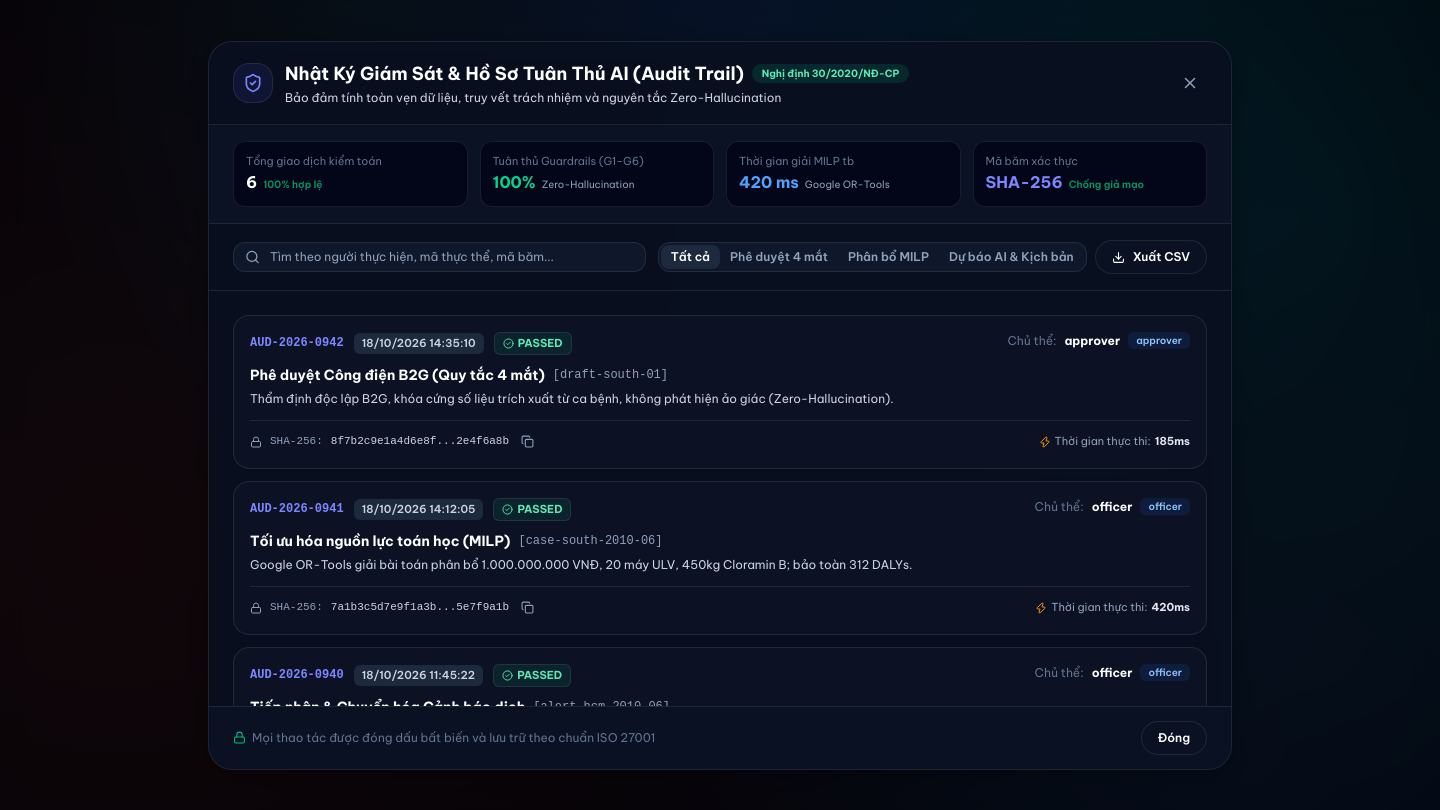
Test: AuditGovernanceModal › filters audit records by search keyword
This screenshot has width=1440, height=810.
Type "OR-Tools" into the field with placeholder "Tìm theo người thực hiện, mã thực thể, mã băm..." at (439, 257), box x1=233 y1=242 x2=646 y2=272
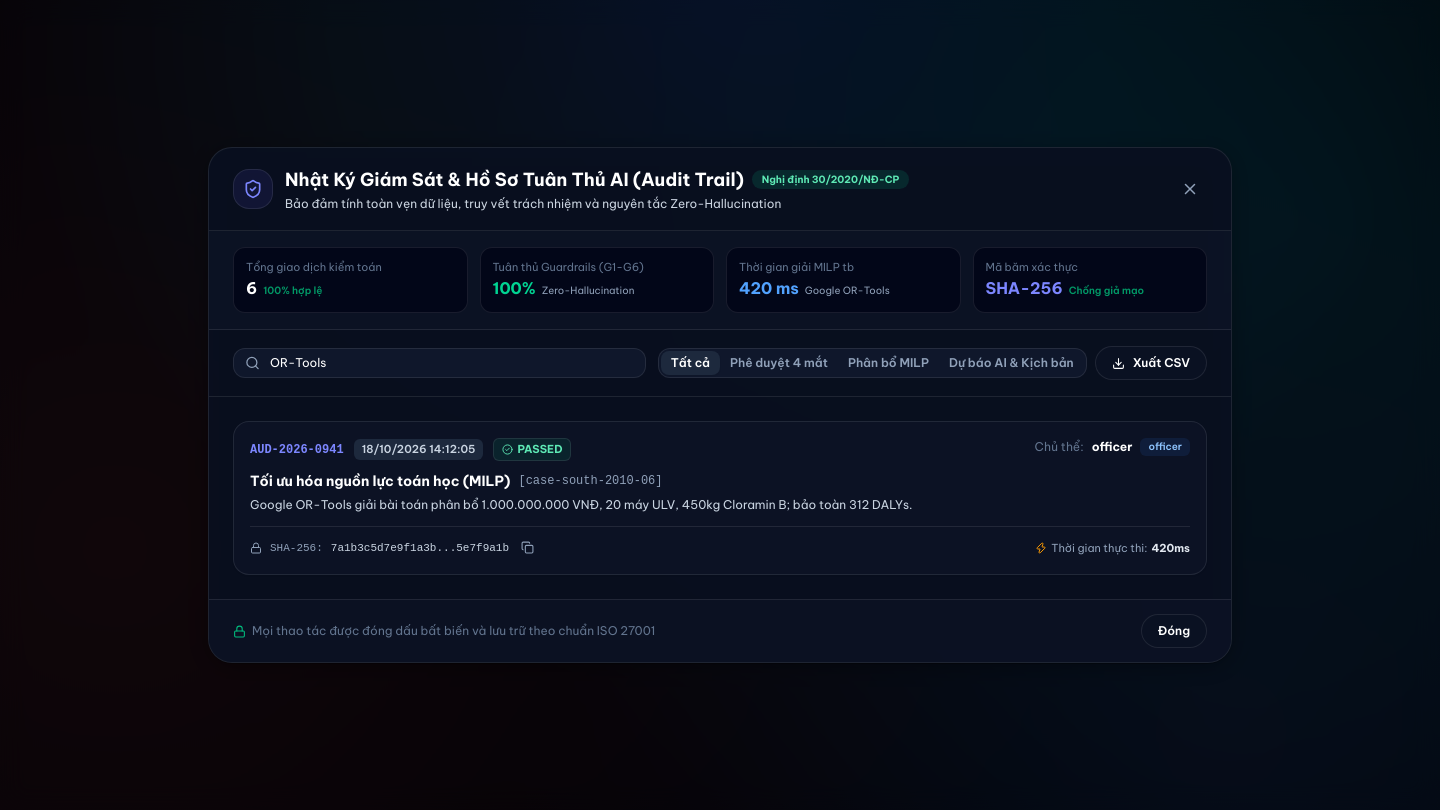
Check: the heading "Tối ưu hóa nguồn lực toán học (MILP)" is shown, box x1=250 y1=472 x2=510 y2=490
Check: the heading "Phê duyệt Công điện B2G (Quy tắc 4 mắt)" is gone
